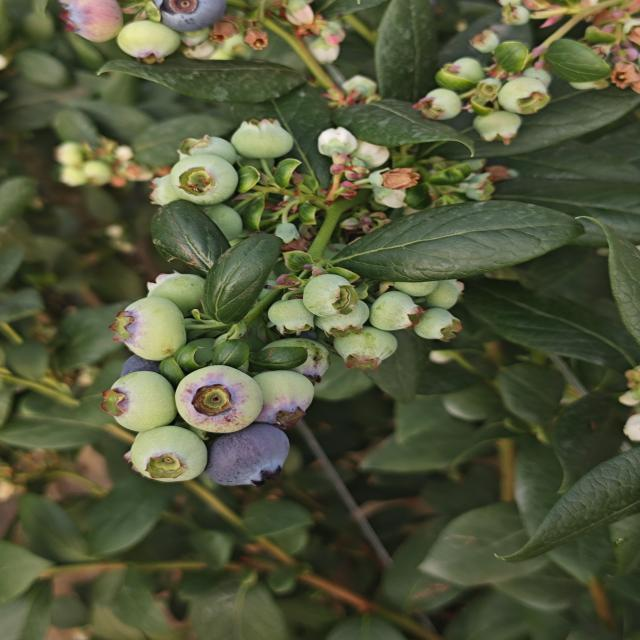ripe: (208, 428, 288, 484), (104, 349, 180, 393), (152, 0, 230, 25)
